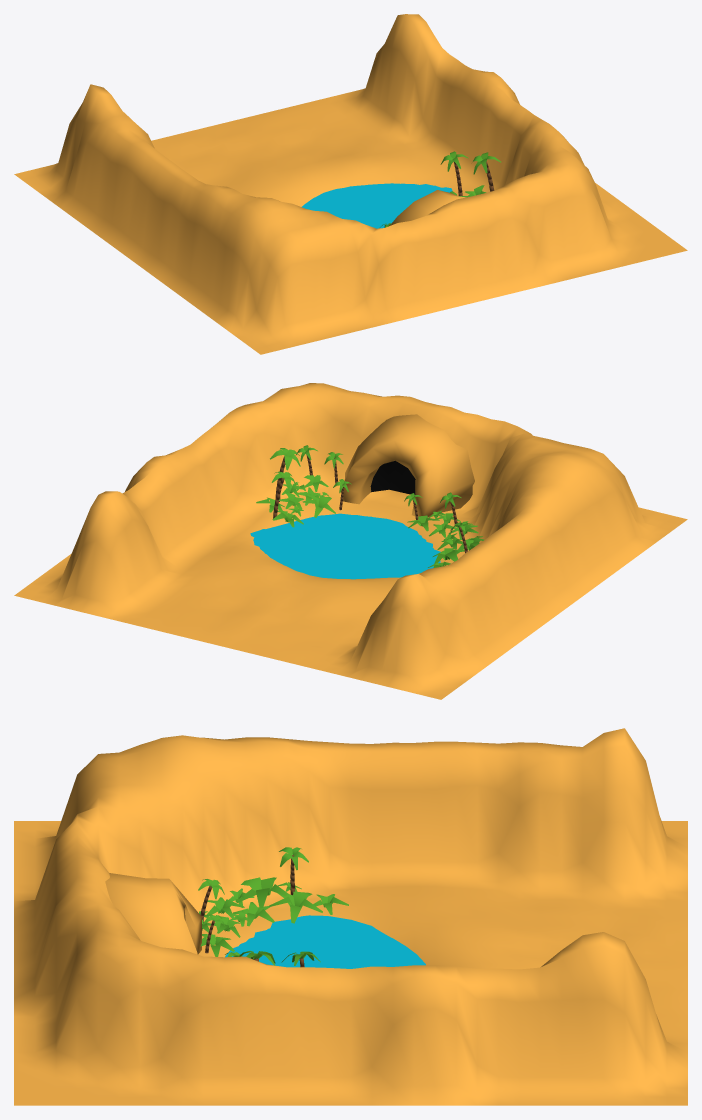
The model's file is ending.fbx.
3 views of the same model, one above another, from view 1: azimuth 30°, elevation 25°; view 2: azimuth 150°, elevation 25°; view 3: azimuth 270°, elevation 25° (orthographic). The views are drawn at different scales.
Visible parts, largest first — view 1: ending; view 2: ending; view 3: ending.
Boxes of the visible parts, bbox=[...] form: ending: bbox=[14, 14, 687, 354]; ending: bbox=[14, 383, 687, 699]; ending: bbox=[14, 728, 687, 1105].
Size of the model in its own units: 4 by 1.14 by 4.
